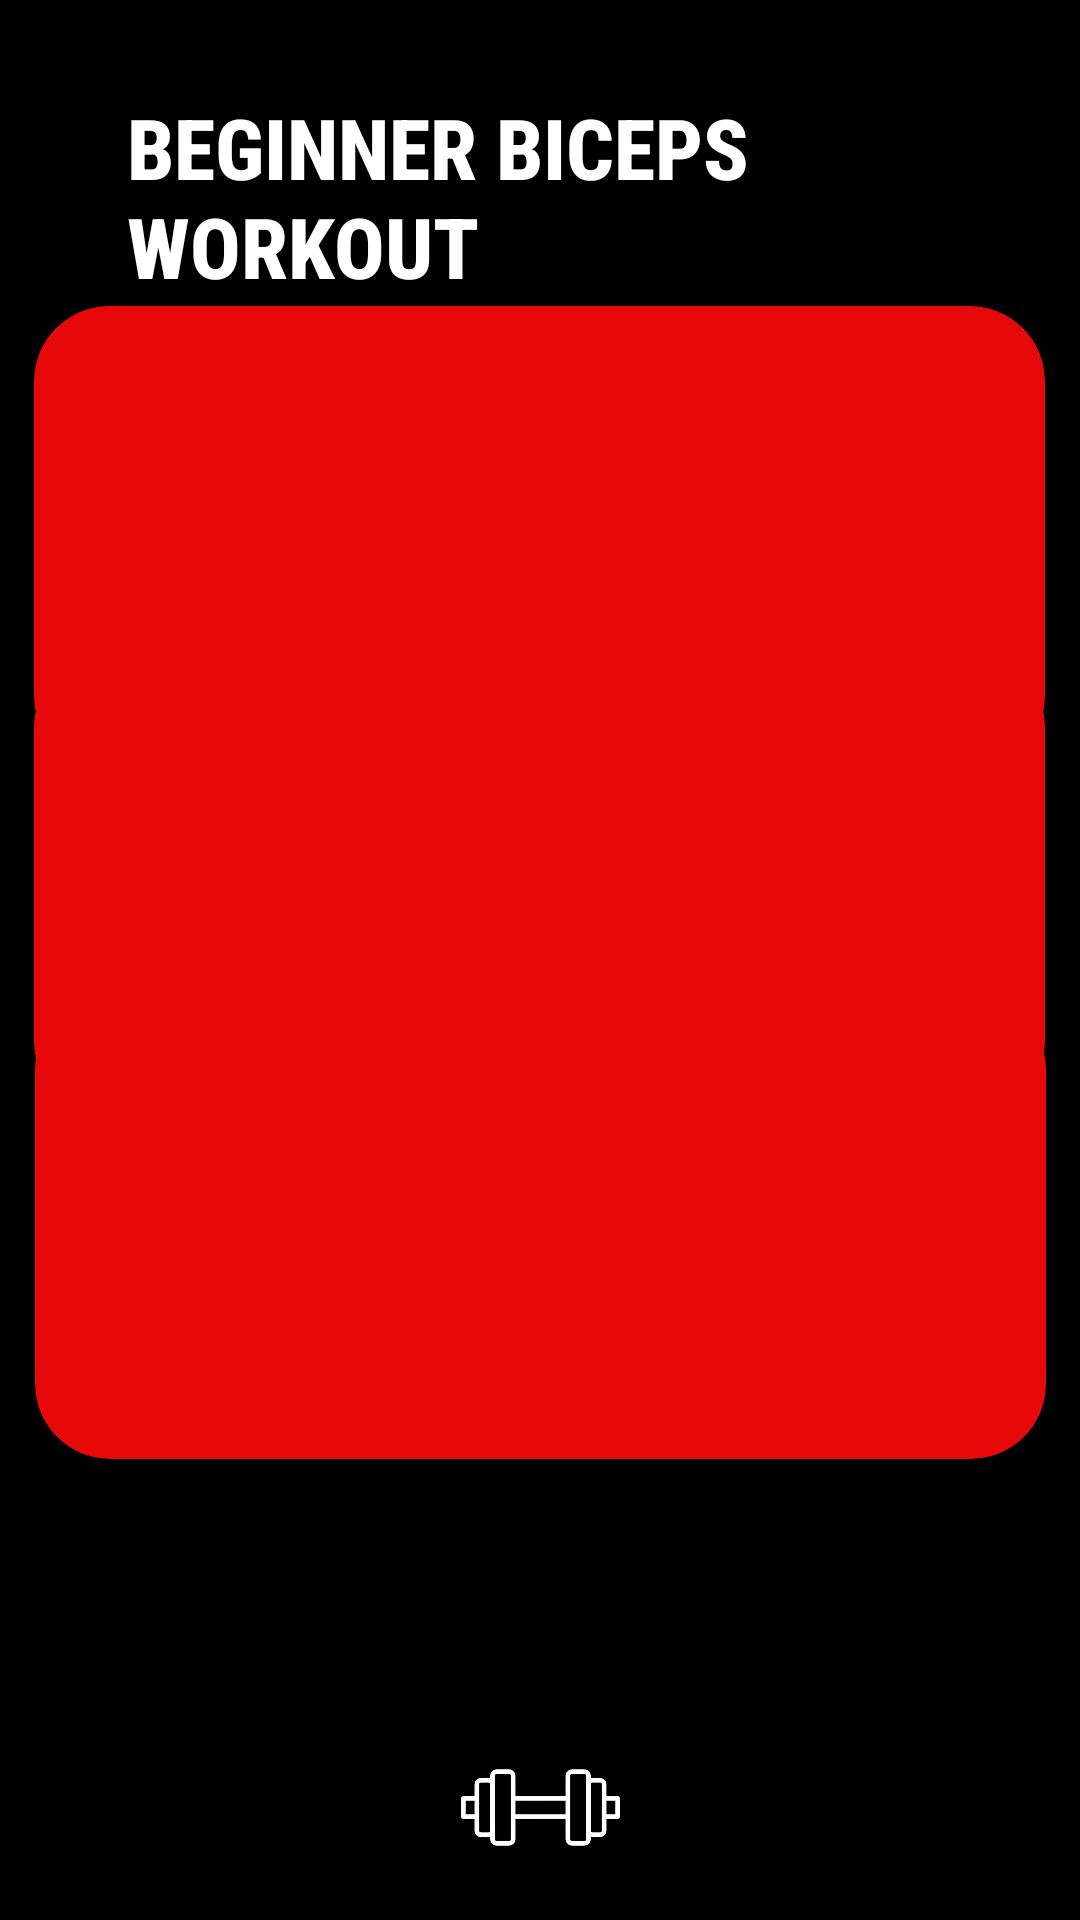

Where icons sit on this 1080x1920 app screen, as [left=x1, top=y1, right=x2, bottom=y2]:
imgdumbell: [left=461, top=1769, right=620, bottom=1846]
